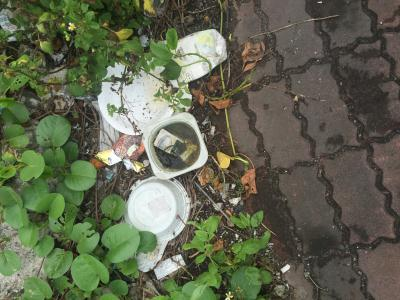bowl: (126, 177, 190, 242)
box: (140, 112, 208, 182)
